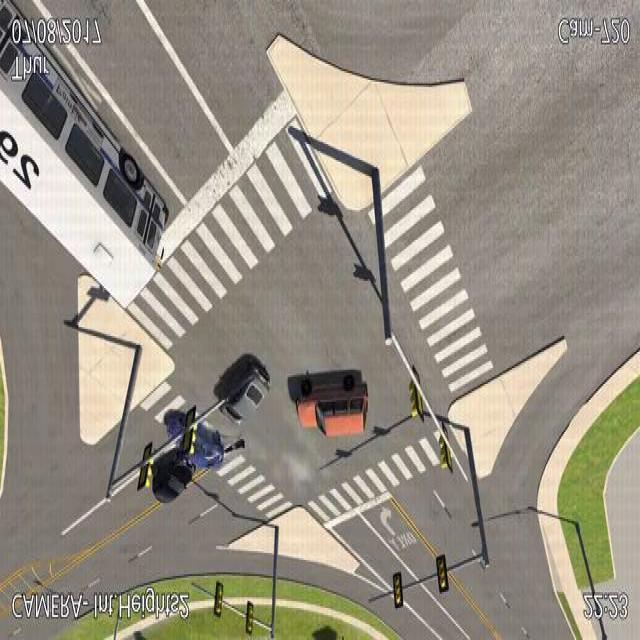vehicle: (138, 406, 238, 514)
